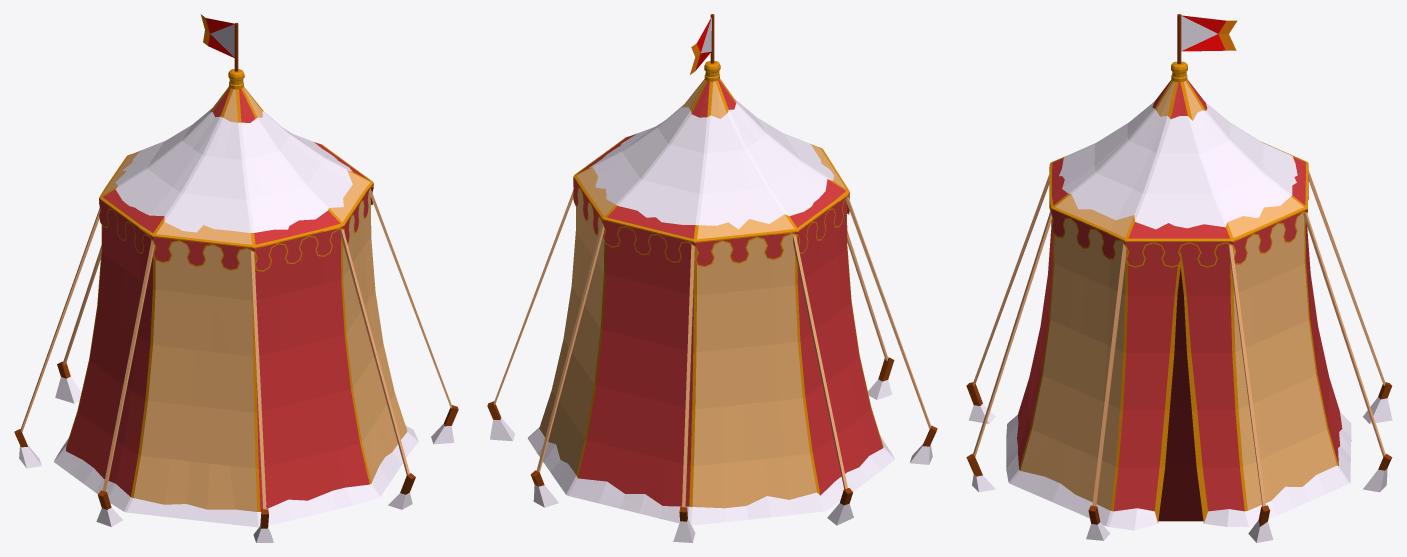
Rendered from winter_castle_tent5.glb.
The picture shows the model from 3 angles, left to right: view 1: azimuth 30°, elevation 25°; view 2: azimuth 150°, elevation 25°; view 3: azimuth 270°, elevation 25°; orthographic projection. The views are drawn at different scales.
Parts seen in each view (by area): view 1: Tent5_Medieval_0; view 2: Tent5_Medieval_0; view 3: Tent5_Medieval_0.
Part boxes in pixels (box(x1,y1,x2,y2)): Tent5_Medieval_0: box(14, 14, 458, 542); Tent5_Medieval_0: box(487, 14, 937, 542); Tent5_Medieval_0: box(966, 14, 1392, 542).
Bounding box in the file's own units: 3.3 × 3.75 × 3.3.
Materials: 1 (1 with a texture image).
